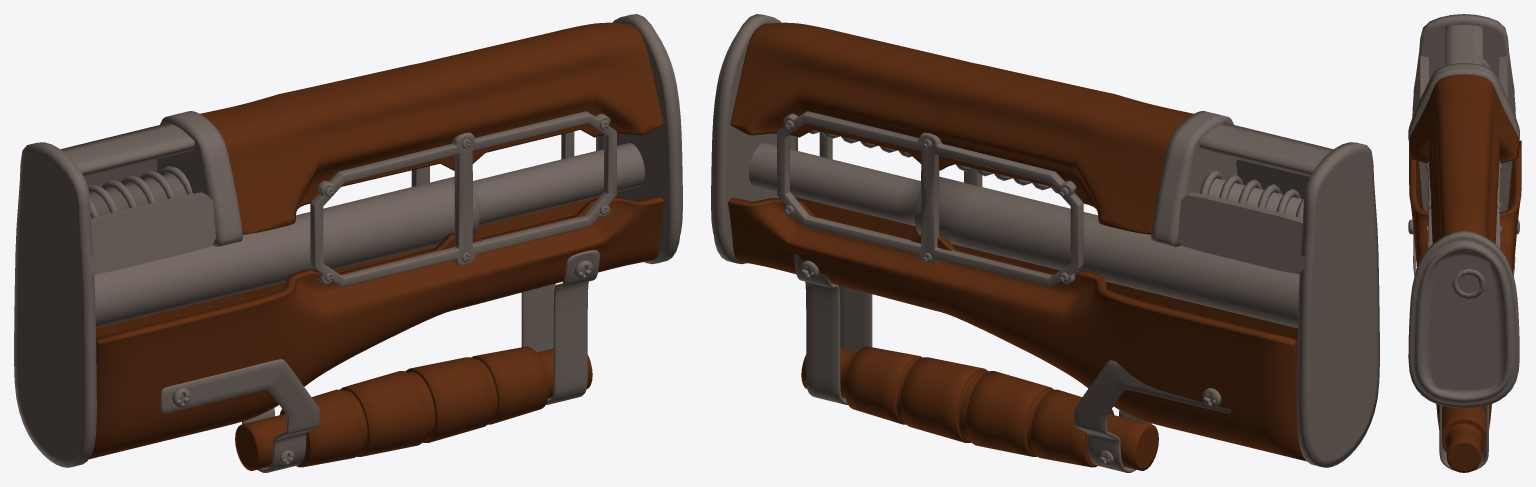
The model's file is handguard_04.fbx.
3 renders of one model, left to right at view 1: azimuth 30°, elevation 25°; view 2: azimuth 150°, elevation 25°; view 3: azimuth 270°, elevation 25°, orthographic. The views are drawn at different scales.
Visible parts, largest first — view 1: Cube.006, Cube.018, Circle.101, Cube.067, Circle.058, Plane.067, Plane.094, Cube.080, Cube.026, Cube.066, Cube.068, Circle.139 (+1 smaller); view 2: Cube.006, Cube.018, Circle.101, Cube.067, Circle.058, Plane.094, Plane.067, Cube.080, Cube.026, Cube.066, Cube.068, Circle.139 (+1 smaller); view 3: Cube.026, Cube.018, Cube.067, Cube.006, Circle.058, Cube.066, Cube.068, Cube.080, Plane.067, Plane.094, Circle.138.
Part boxes in pixels (bbox=[...]): Cube.006: bbox=[89, 196, 664, 459]; Cube.018: bbox=[200, 22, 663, 234]; Circle.101: bbox=[94, 143, 644, 328]; Cube.067: bbox=[14, 142, 96, 467]; Circle.058: bbox=[235, 346, 592, 470]; Plane.067: bbox=[160, 250, 599, 472]; Plane.094: bbox=[310, 111, 616, 286]; Cube.080: bbox=[84, 159, 215, 274]; Cube.026: bbox=[596, 14, 682, 264]; Cube.066: bbox=[156, 111, 242, 246]; Cube.068: bbox=[61, 122, 194, 176]; Circle.139: bbox=[87, 166, 192, 218]; Cube.006: bbox=[728, 197, 1305, 460]; Cube.018: bbox=[730, 22, 1193, 234]; Circle.101: bbox=[749, 143, 1299, 328]; Cube.067: bbox=[1297, 142, 1379, 467]; Circle.058: bbox=[801, 346, 1158, 470]; Plane.094: bbox=[777, 111, 1083, 286]; Plane.067: bbox=[794, 253, 1230, 472]; Cube.080: bbox=[1178, 159, 1309, 274]; Cube.026: bbox=[711, 14, 797, 264]; Cube.066: bbox=[1151, 111, 1237, 246]; Cube.068: bbox=[1199, 122, 1332, 176]; Circle.139: bbox=[809, 130, 1304, 218]; Cube.026: bbox=[1408, 230, 1519, 408]; Cube.018: bbox=[1409, 74, 1519, 244]; Cube.067: bbox=[1412, 14, 1515, 212]; Cube.006: bbox=[1409, 140, 1521, 272]; Circle.058: bbox=[1436, 404, 1491, 472]; Cube.066: bbox=[1408, 63, 1519, 141]; Cube.068: bbox=[1445, 24, 1482, 65]; Cube.080: bbox=[1413, 56, 1514, 113]; Plane.067: bbox=[1413, 229, 1515, 470]; Plane.094: bbox=[1427, 161, 1500, 248]; Circle.138: bbox=[1452, 268, 1485, 299].
Size of the model in its own units: 76.49 by 46.09 by 17.01.
